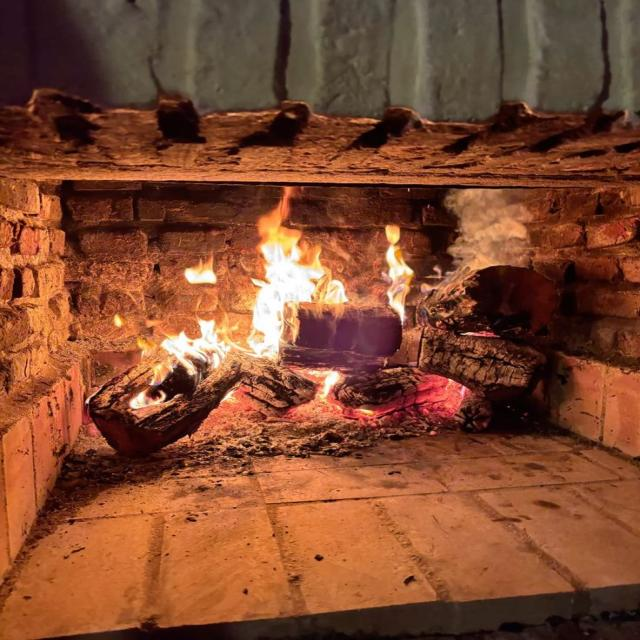fire: (248, 186, 348, 304), (161, 319, 229, 377), (384, 225, 413, 326), (246, 302, 282, 360)
